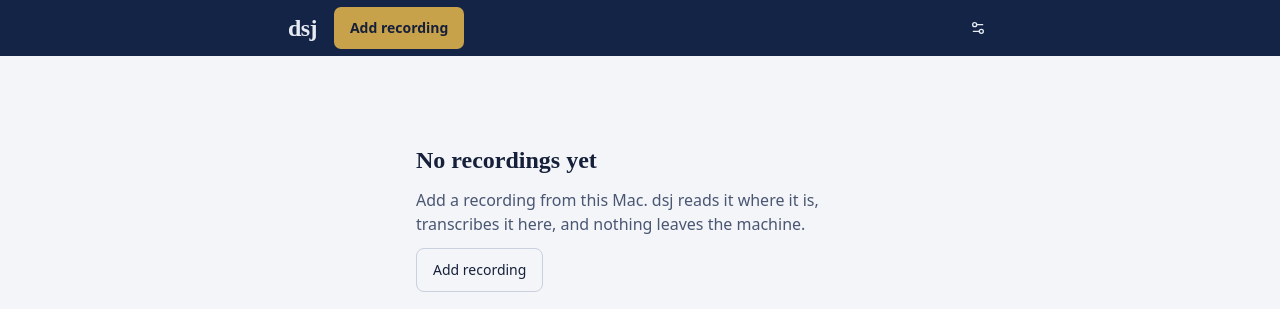
Test: bringing a recording in (#110) › offers Add recording on an empty library, and lists what was picked without a reload
This screenshot has width=1280, height=309.
expect the heading "No recordings yet" is shown: met, box [416,144,597,176]
Click the button "Add recording" below "No recordings yet".
click(480, 270)  # box [416,248,543,292]
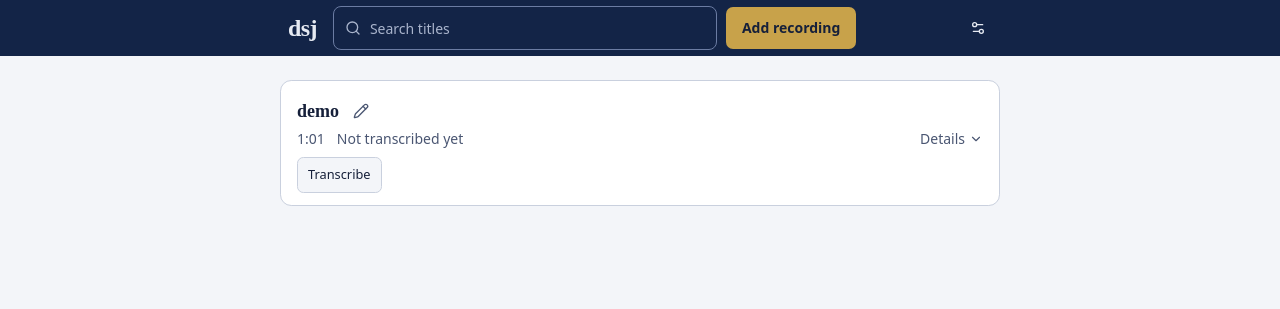
expect the text "1:01" is shown: met, box [297,129,325,149]
expect the text "Not transcribed yet" is shown: met, box [337,129,463,149]
Click the button "Details".
click(952, 139)  # box [920,129,983,149]
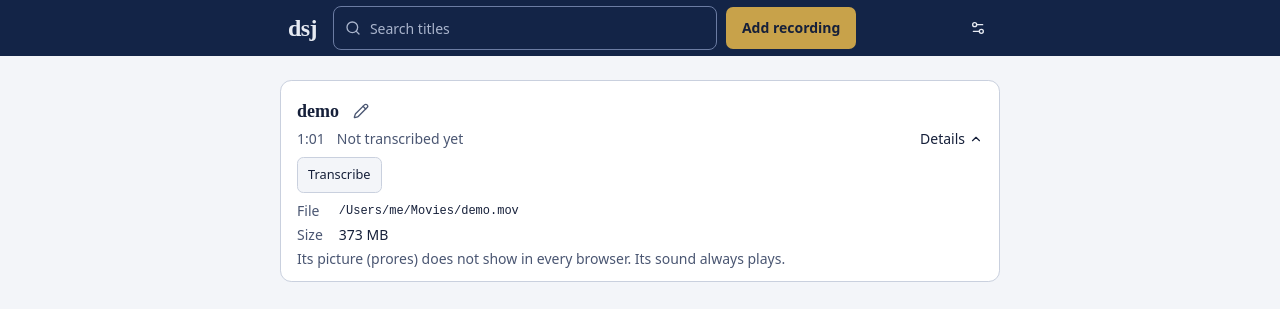
expect the text "373 MB" is shown: met, box [339,225,388,244]
expect the text "Its picture (prores) does not show in every browser" is shown: met, box [297,249,785,268]
